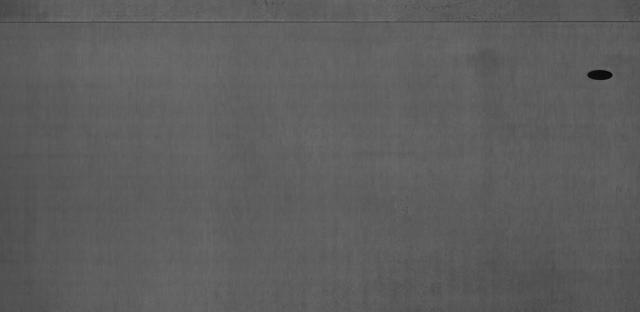punching_hole: (580, 65, 616, 84)
welding_line: (1, 14, 636, 32)
